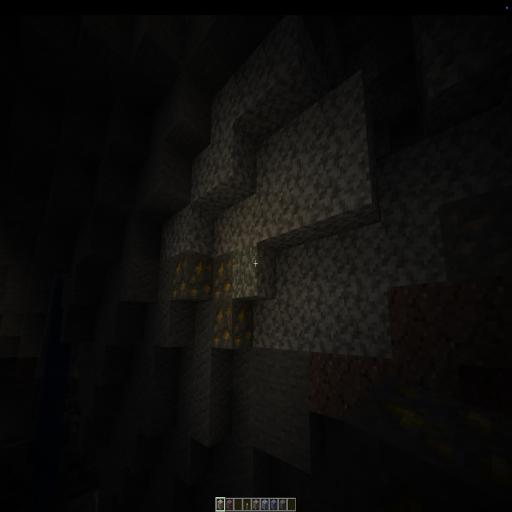gold ore: (169, 254, 255, 356)
